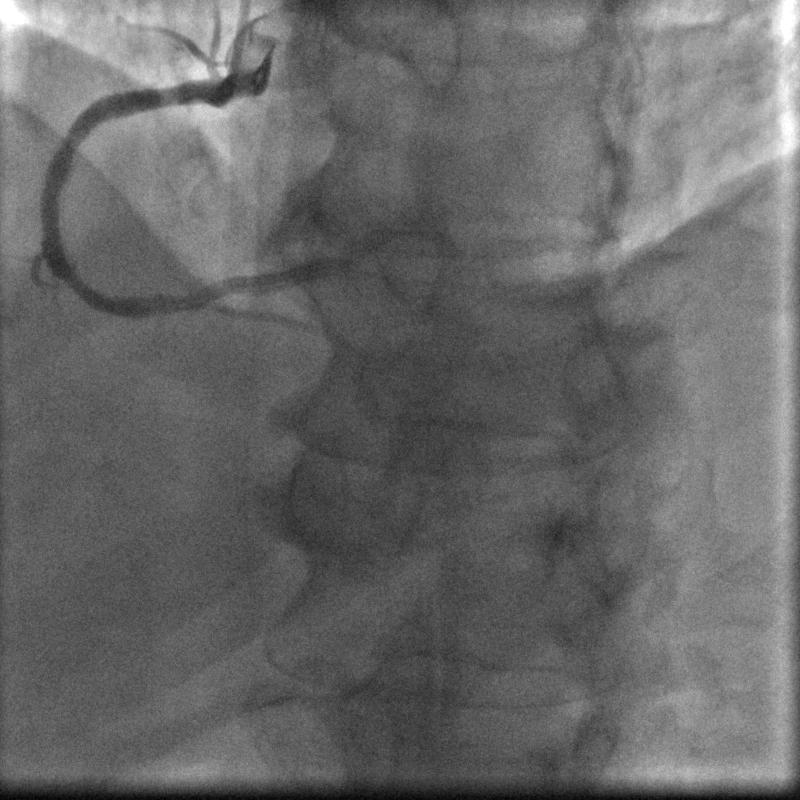Stenosis: (147, 286, 226, 311)
